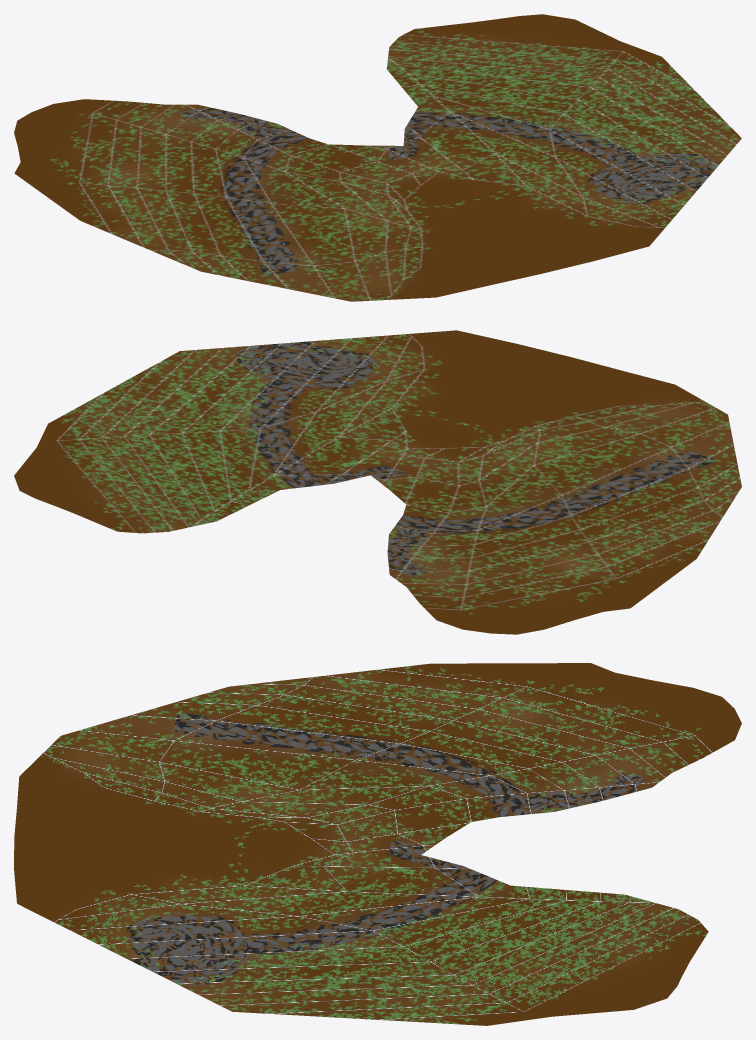
File: map1_2.obj
3 renders of one model, top to bottom at view 1: azimuth 30°, elevation 25°; view 2: azimuth 150°, elevation 25°; view 3: azimuth 270°, elevation 25°, orthographic. The views are drawn at different scales.
Parts seen in each view (by area): view 1: pPlane2; view 2: pPlane2; view 3: pPlane2.
Boxes of the visible parts, x1=… form: pPlane2: x1=14, y1=14, x2=741, y2=301; pPlane2: x1=14, y1=330, x2=741, y2=634; pPlane2: x1=14, y1=663, x2=741, y2=1025.
Size of the model in its own units: 52.77 by 0 by 44.73.
1 material, 1 textured.
